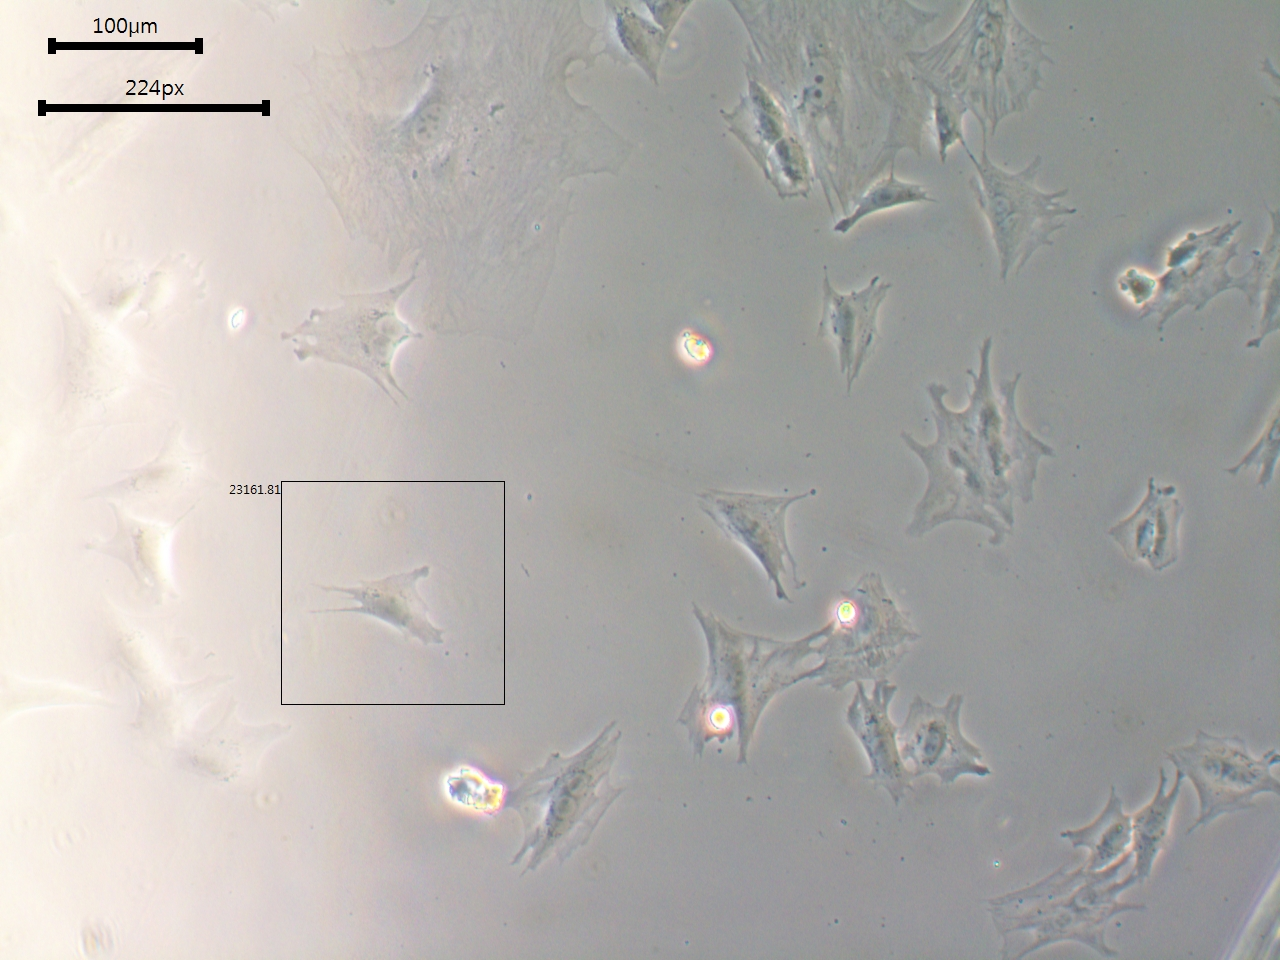dividing: (480, 716, 639, 886), (272, 265, 428, 411), (963, 146, 1093, 301)
large-spread: (896, 330, 1072, 561)
medium-spread: (685, 476, 809, 607), (303, 557, 451, 657), (1160, 718, 1280, 829), (901, 689, 991, 809), (836, 676, 908, 820)
small-spread: (807, 255, 899, 400), (1104, 477, 1196, 597), (1058, 788, 1131, 870)
